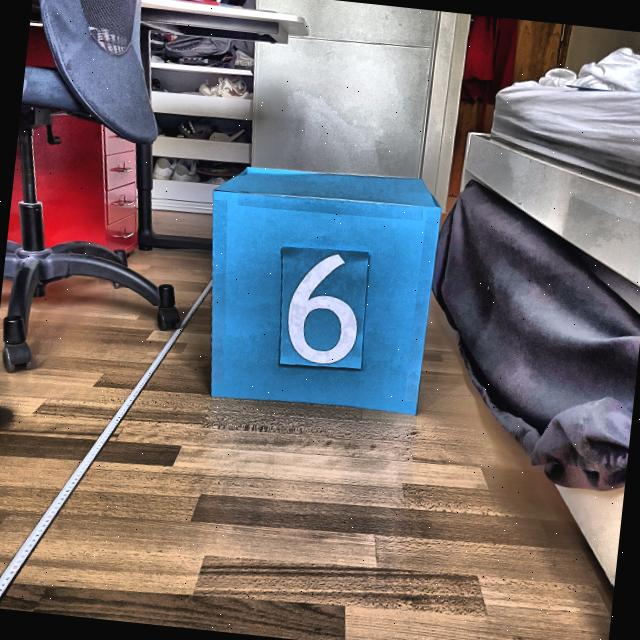blue box: (189, 156, 448, 418)
six: (274, 246, 371, 370)
